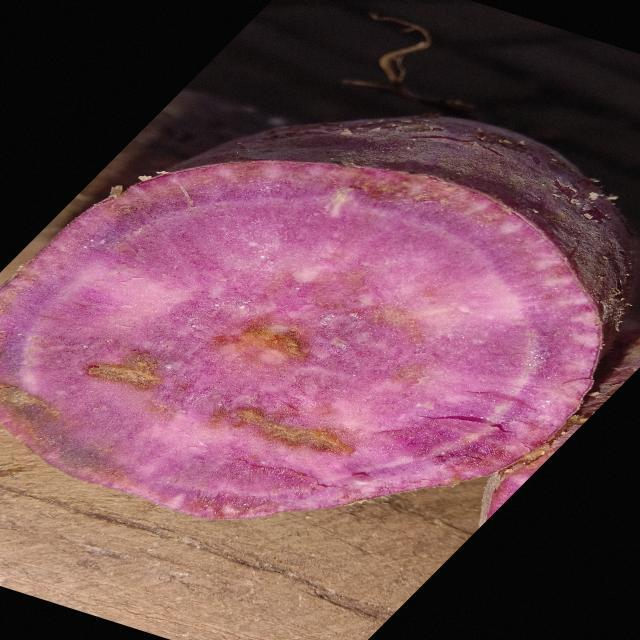Sick Sweet Potato_Tuber Rot: (2, 161, 600, 518)
